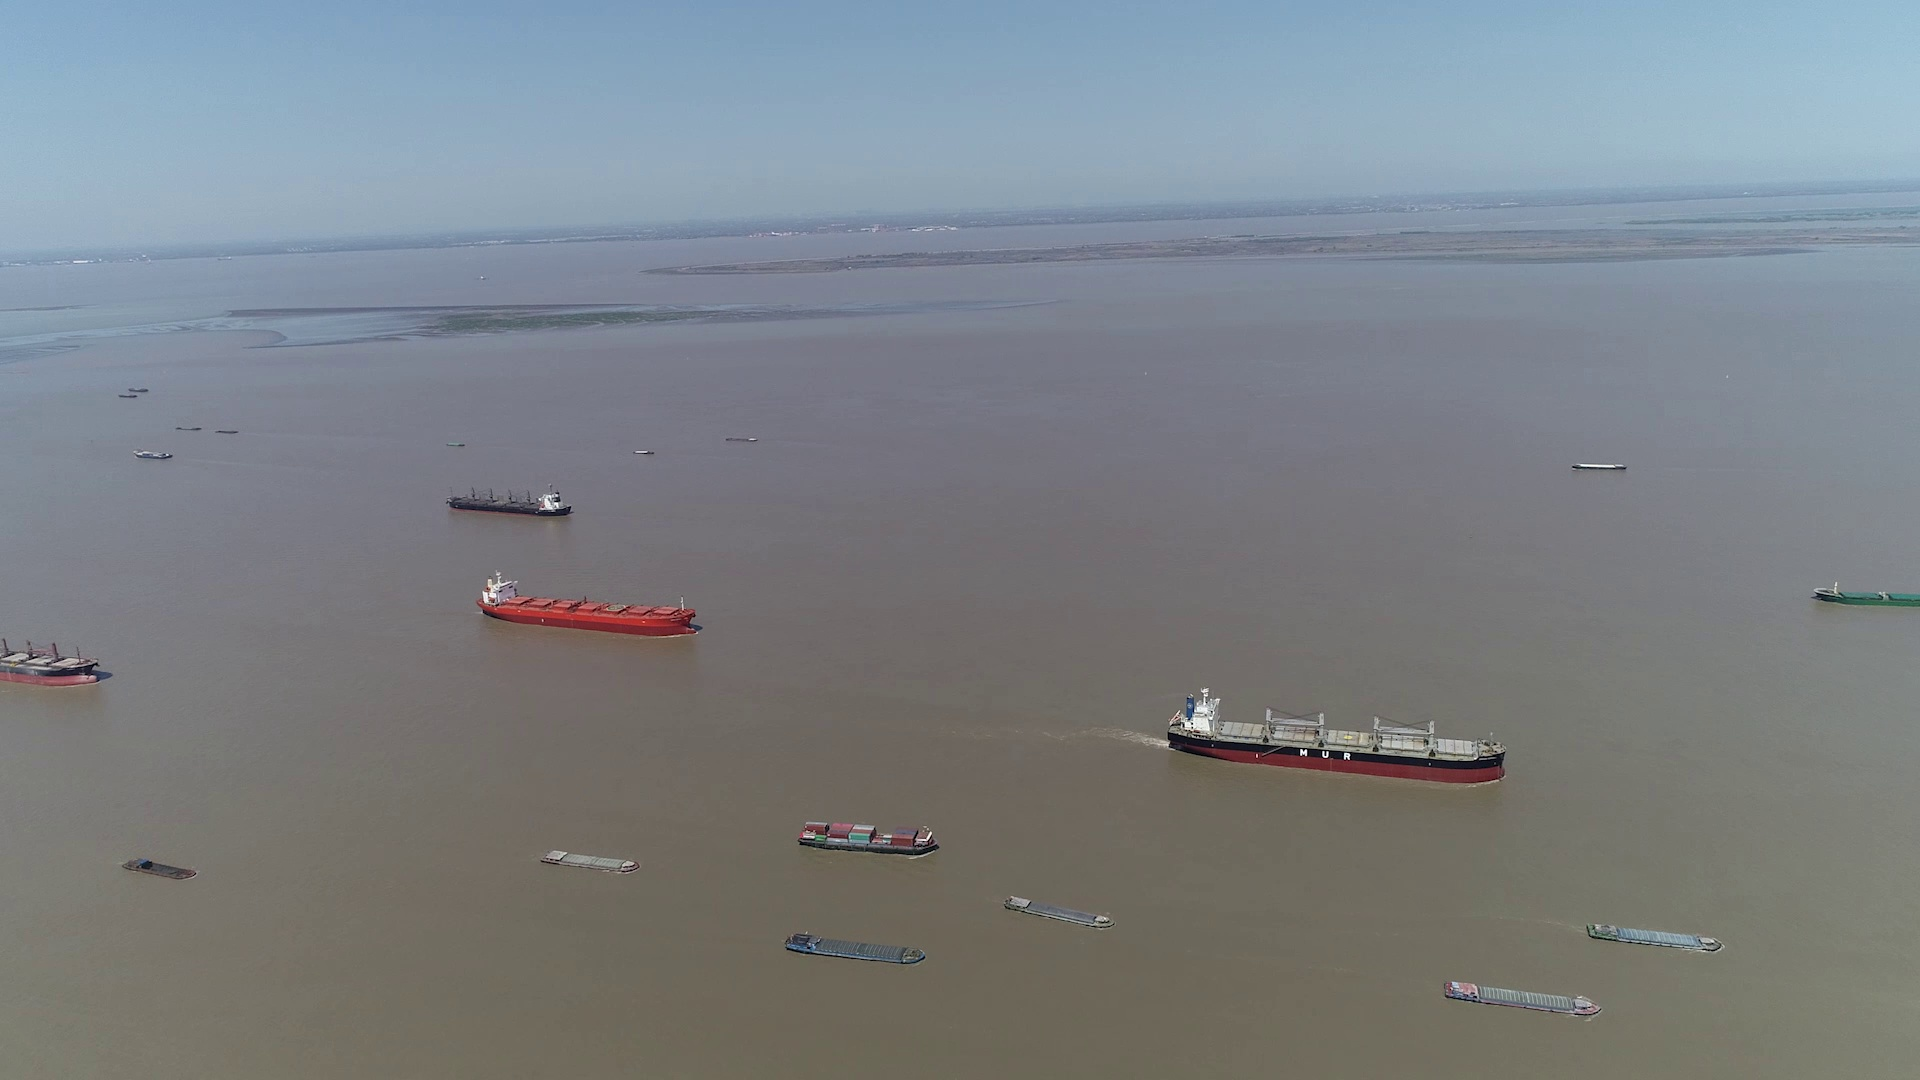ship: (1168, 688, 1507, 783), (481, 570, 694, 636), (0, 624, 108, 688), (1443, 977, 1602, 1017), (798, 820, 939, 857), (781, 931, 924, 967), (1586, 922, 1724, 953), (447, 485, 572, 517), (1002, 894, 1114, 928), (538, 847, 637, 872), (1813, 585, 1917, 607), (124, 857, 195, 880), (1571, 462, 1625, 471), (135, 448, 171, 459), (724, 435, 758, 442)
